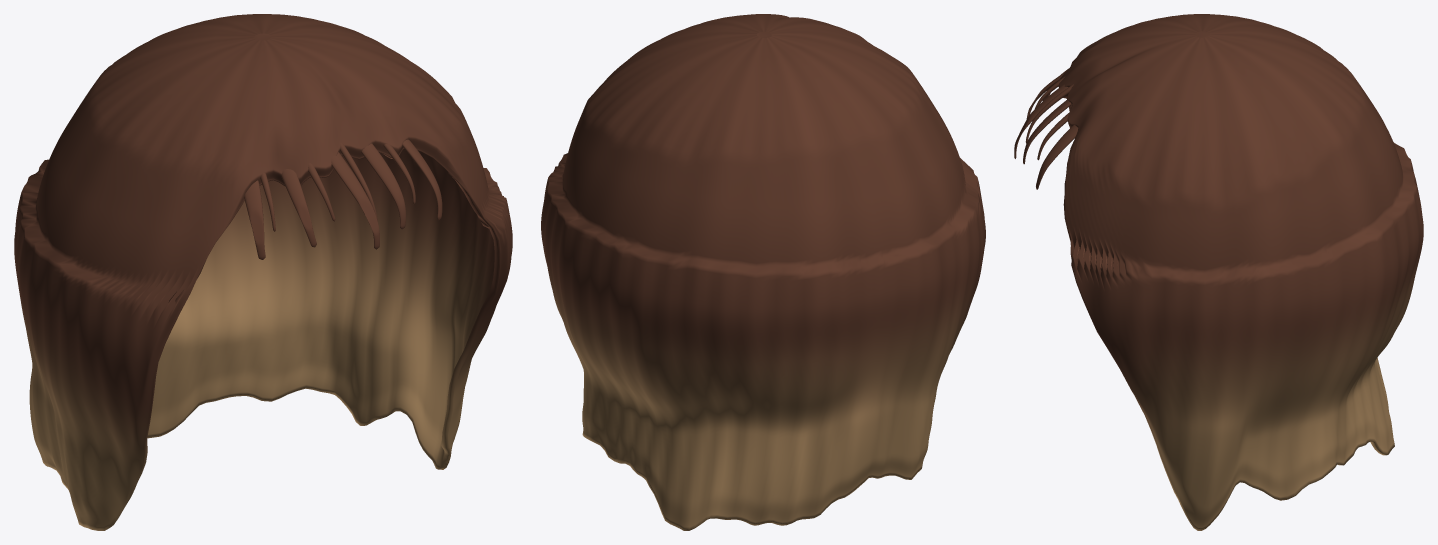
The model's file is side-sweep-beanie-ombre.glb.
3 views of the same model, side by side, from view 1: azimuth 30°, elevation 25°; view 2: azimuth 150°, elevation 25°; view 3: azimuth 270°, elevation 25° (orthographic). The views are drawn at different scales.
Parts seen in each view (by area): view 1: Hair / layered lob, Fringe / arched wisp 05, Fringe / arched wisp 07, Fringe / arched wisp 01, Fringe / arched wisp 03, Fringe / arched wisp 09; view 2: Hair / layered lob; view 3: Hair / layered lob, Fringe / arched wisp 09.
Boxes of the visible parts, <box> form: Hair / layered lob: <box>14,14,512,530</box>; Fringe / arched wisp 05: <box>331,152,379,249</box>; Fringe / arched wisp 07: <box>361,143,405,229</box>; Fringe / arched wisp 01: <box>244,180,265,259</box>; Fringe / arched wisp 03: <box>281,169,316,247</box>; Fringe / arched wisp 09: <box>402,139,442,220</box>; Hair / layered lob: <box>541,14,985,530</box>; Hair / layered lob: <box>1058,14,1423,530</box>; Fringe / arched wisp 09: <box>1036,125,1078,189</box>.
Bounding box in the file's own units: 0.8388 × 0.8786 × 0.7759.
